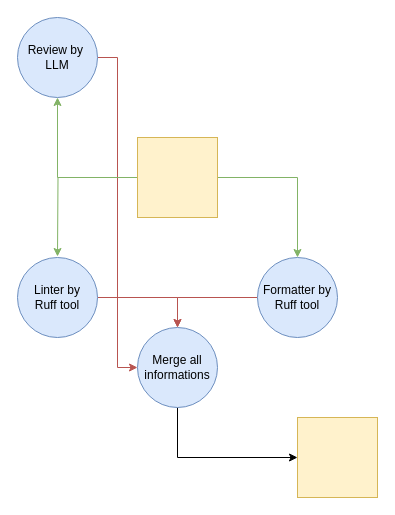
Image size: 395x515. Some labels were removed from this diagram. Each missing label, with the centre of its shape:
"User Code Input" belongs at [177,177].
"User Reveiw Output" belongs at [337,457].
